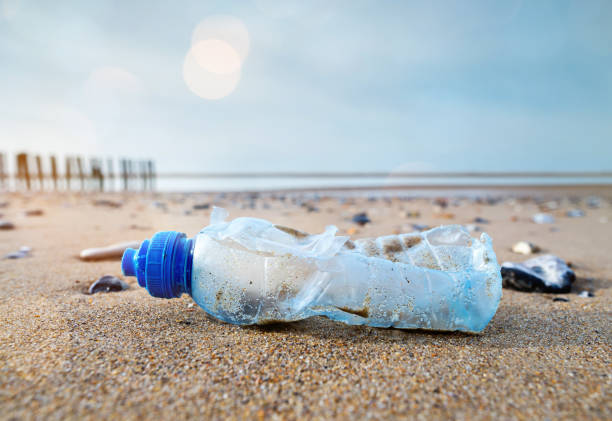plastic_bottle: (120, 216, 503, 334)
